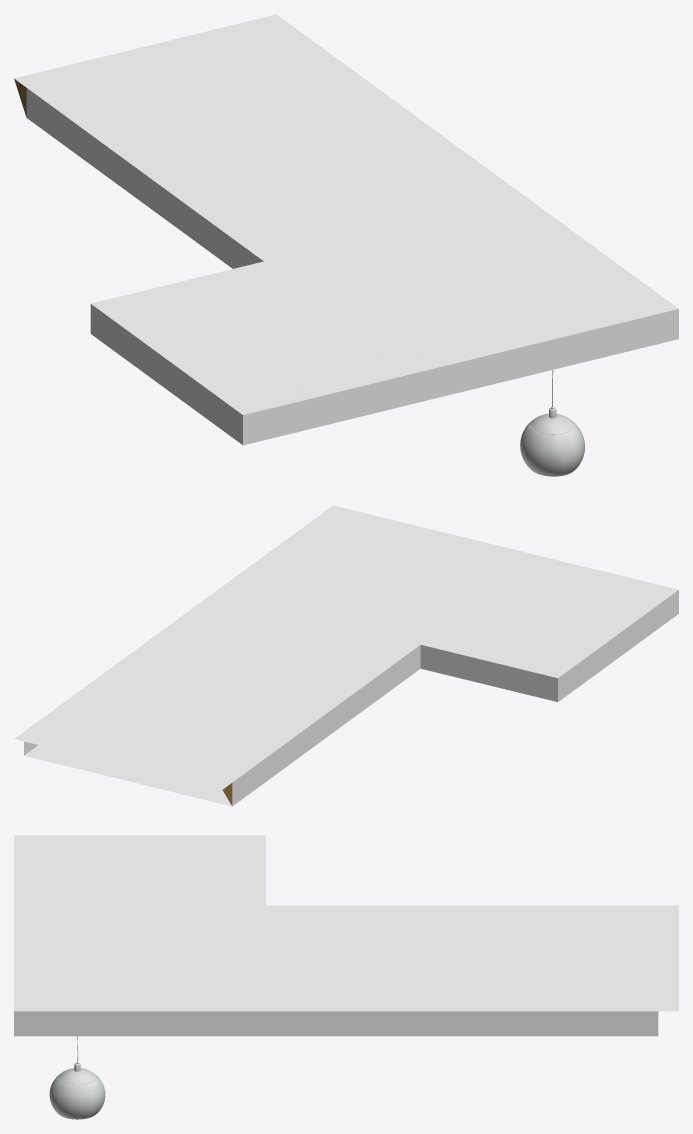
The model's file is TechoS2.obj.
3 renders of one model, top to bottom at view 1: azimuth 30°, elevation 25°; view 2: azimuth 150°, elevation 25°; view 3: azimuth 270°, elevation 25°, orthographic. The views are drawn at different scales.
Parts seen in each view (by area): view 1: TechoS2; view 2: TechoS2; view 3: TechoS2.
Boxes of the visible parts, x1,y1,x2,y2 form: TechoS2: (14,14,678,476); TechoS2: (14,505,678,806); TechoS2: (14,835,678,1119).
Bounding box in the file's own units: 9.97 × 3.59 × 15.94.
Materials: 5 (5 with a texture image).
